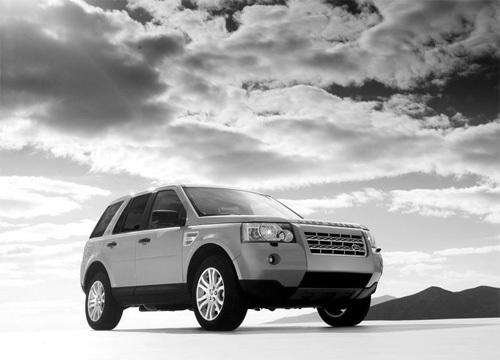car: (81, 185, 385, 333)
